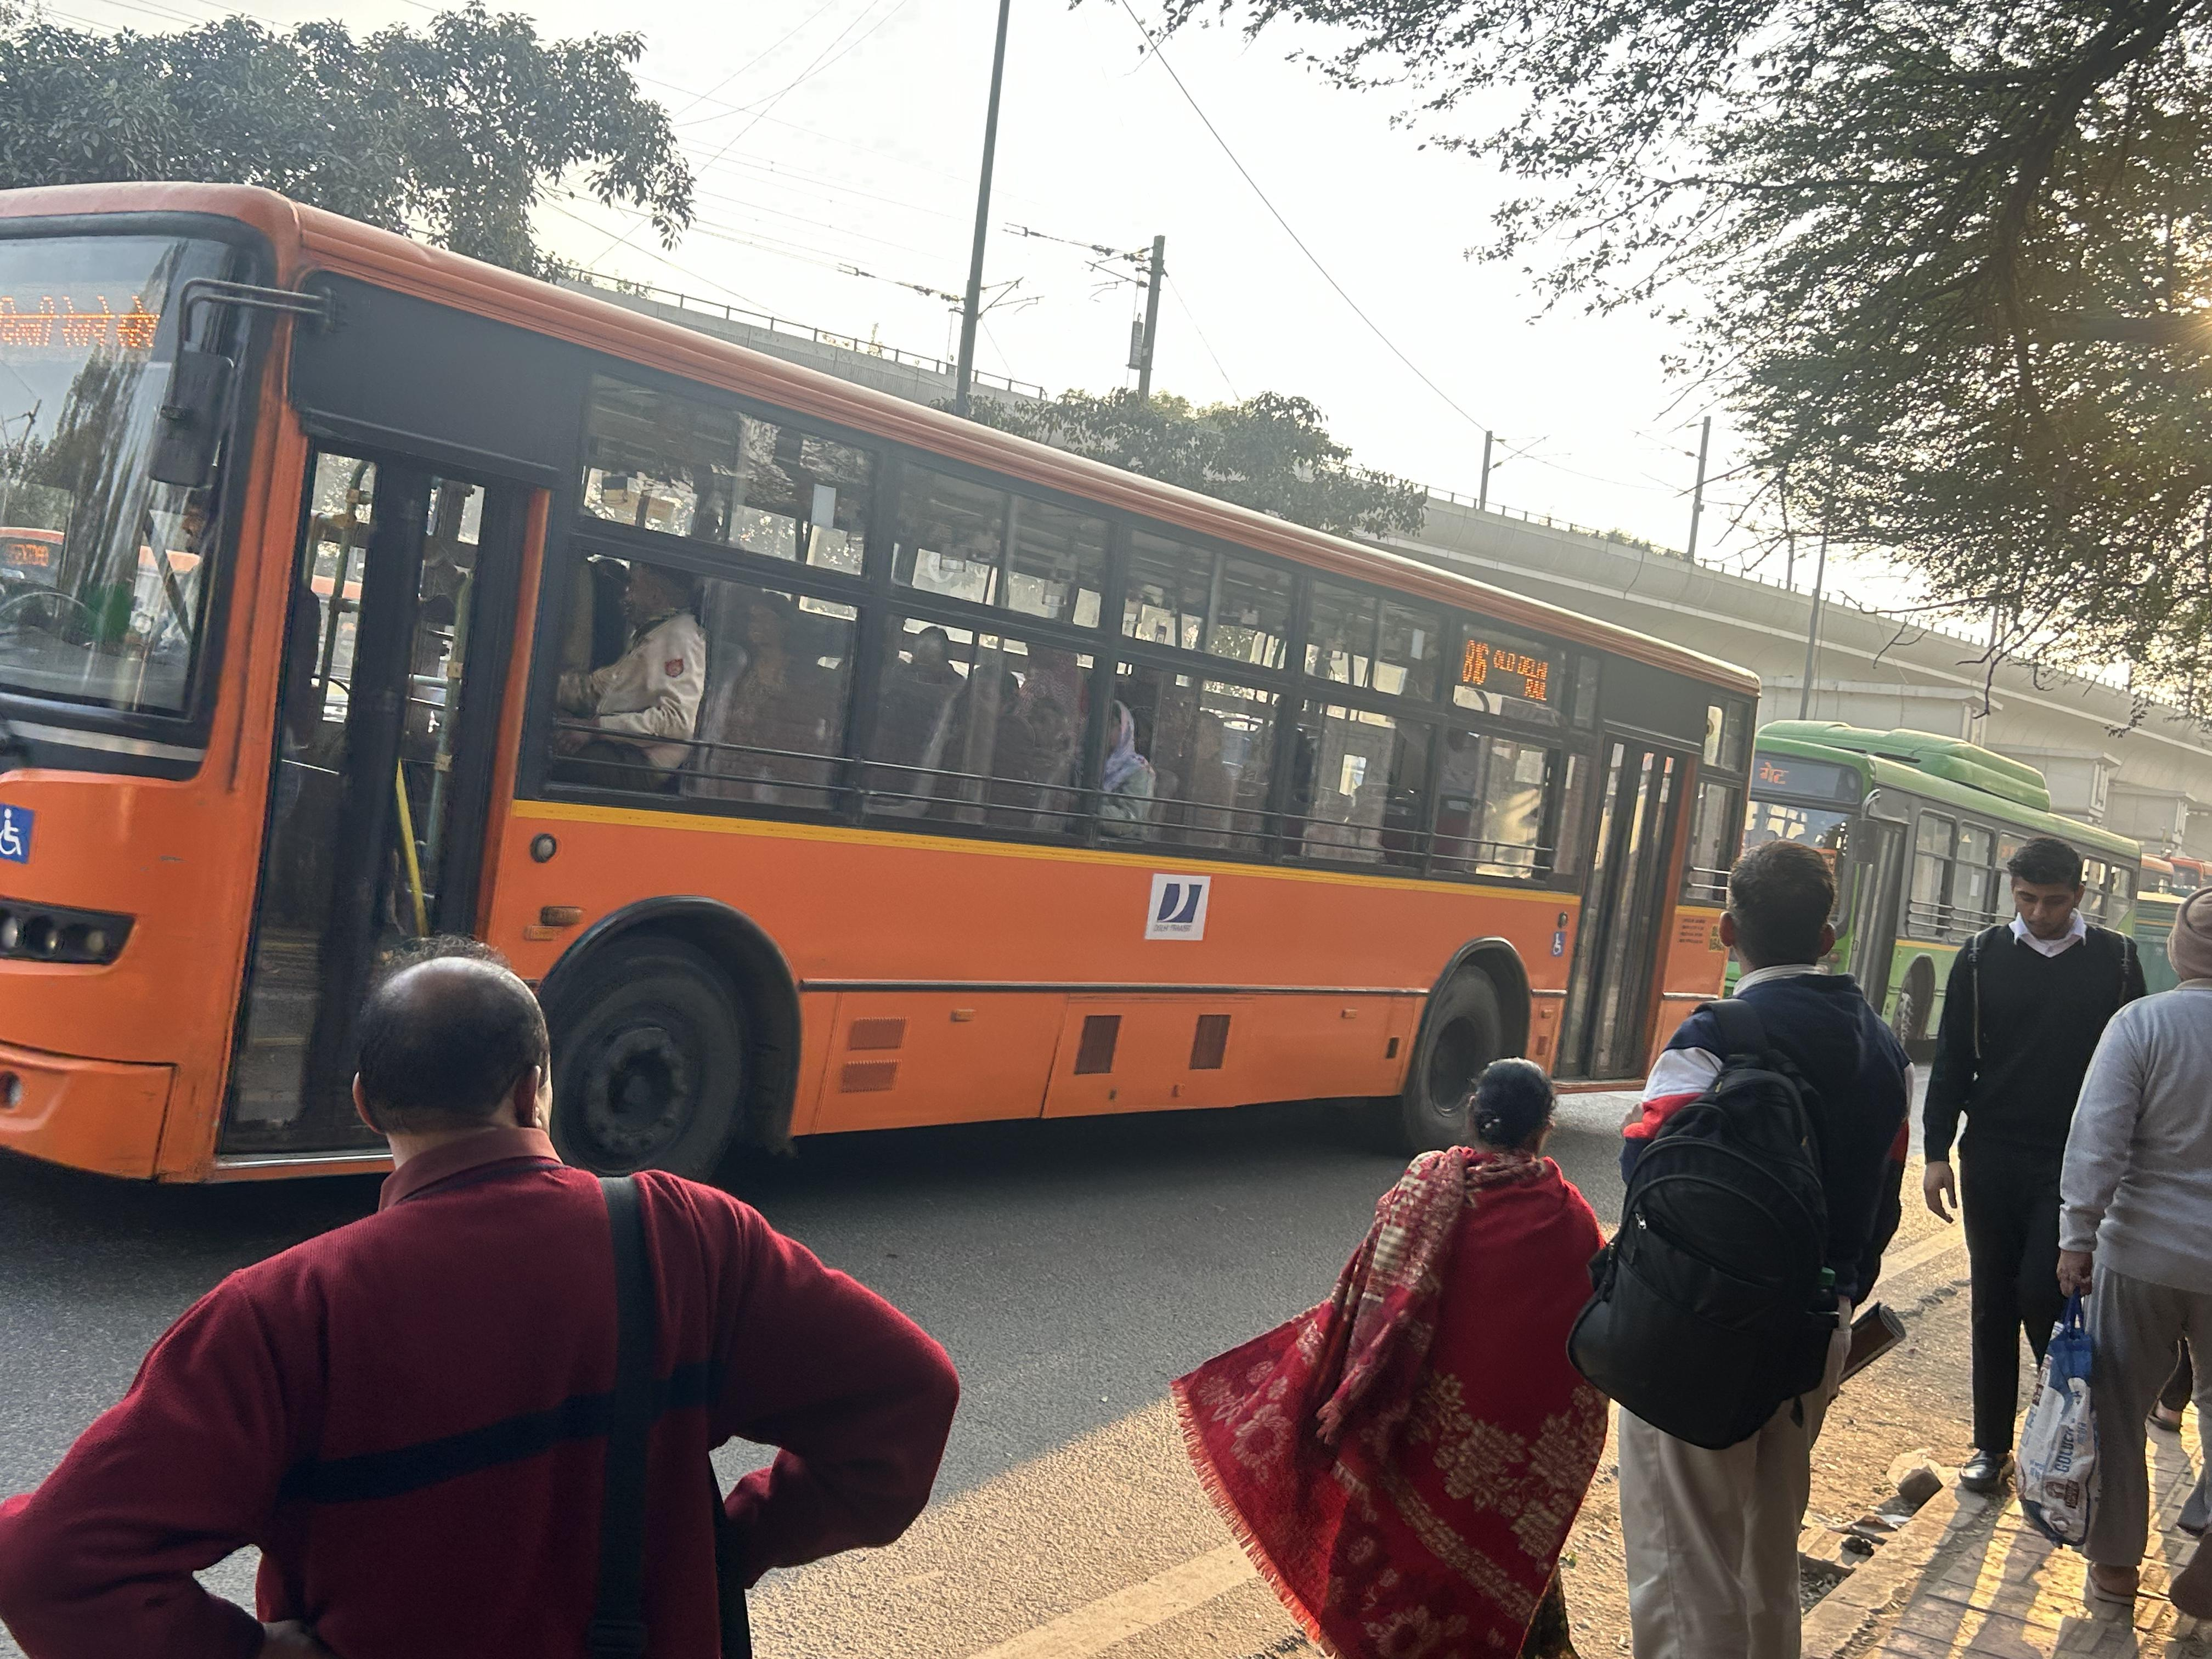Bus: (0, 171, 1778, 1234), (1756, 669, 2212, 1098)
Display Board: (0, 220, 280, 373), (1437, 620, 1618, 718)
